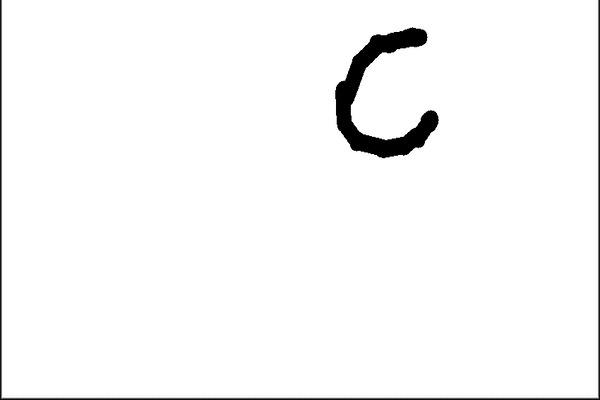C: (331, 21, 441, 162)
